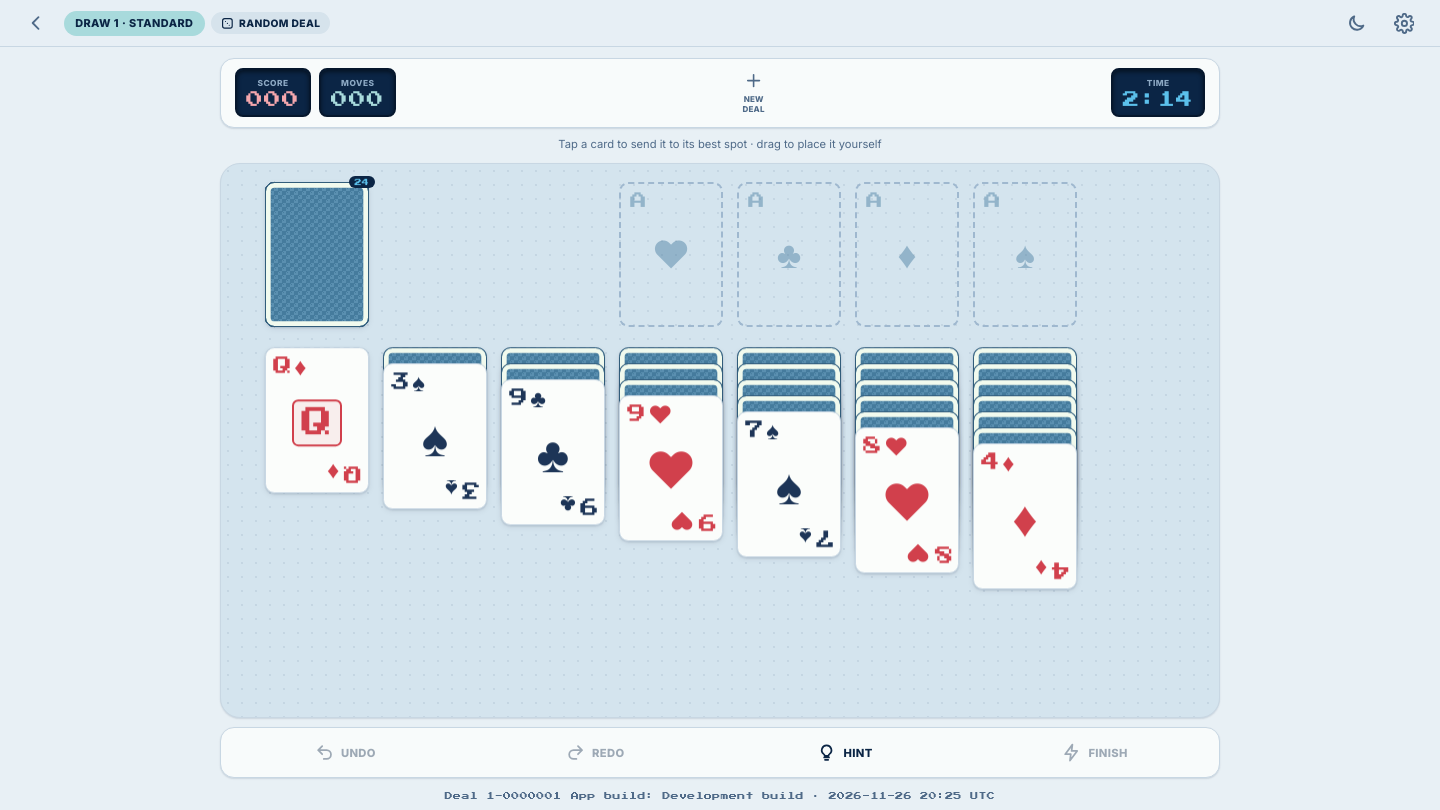
Test case: While the Paused sheet is open › Resume resumes and shows the board again
Press p
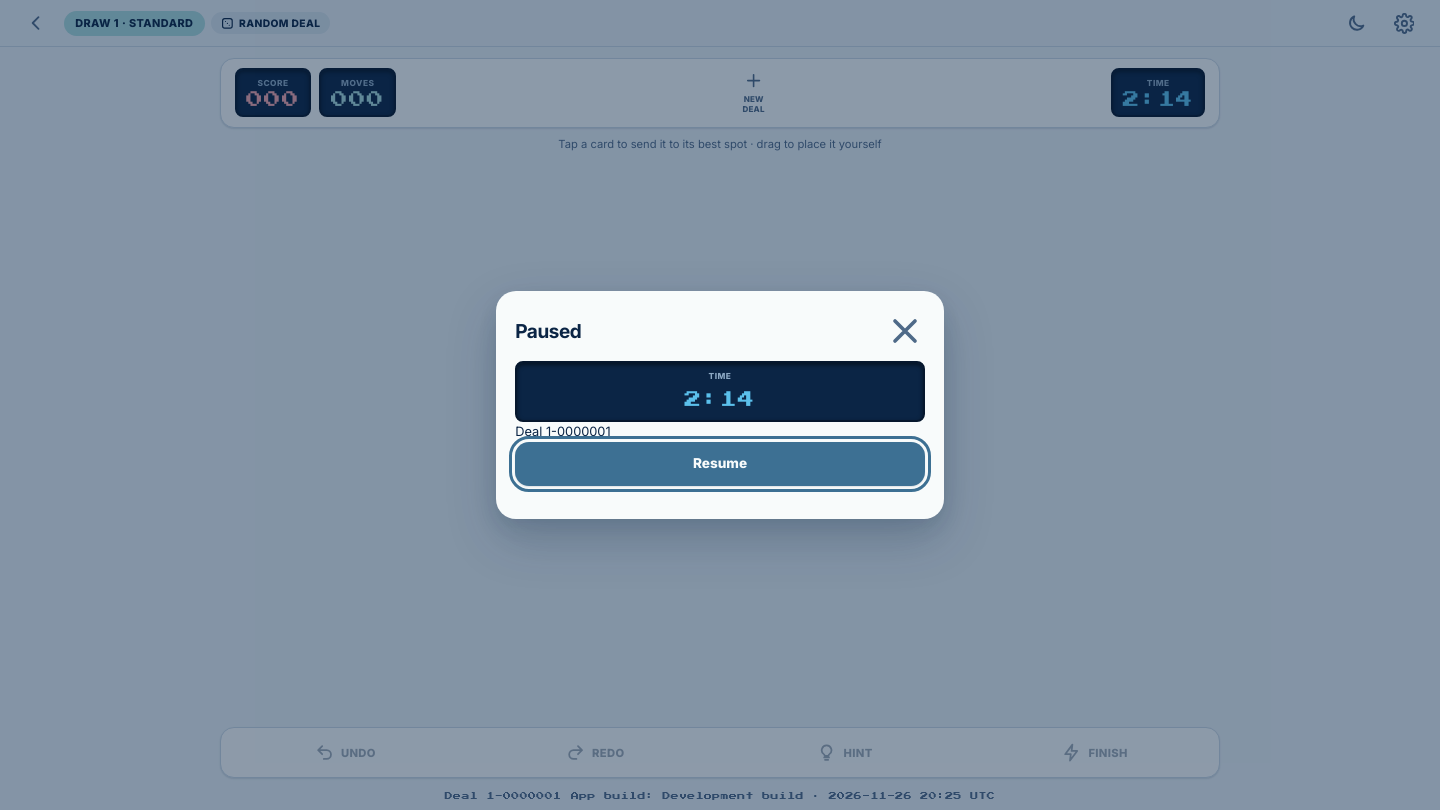
Click the button "Resume".
click(720, 464)  # box [515,442,925,486]
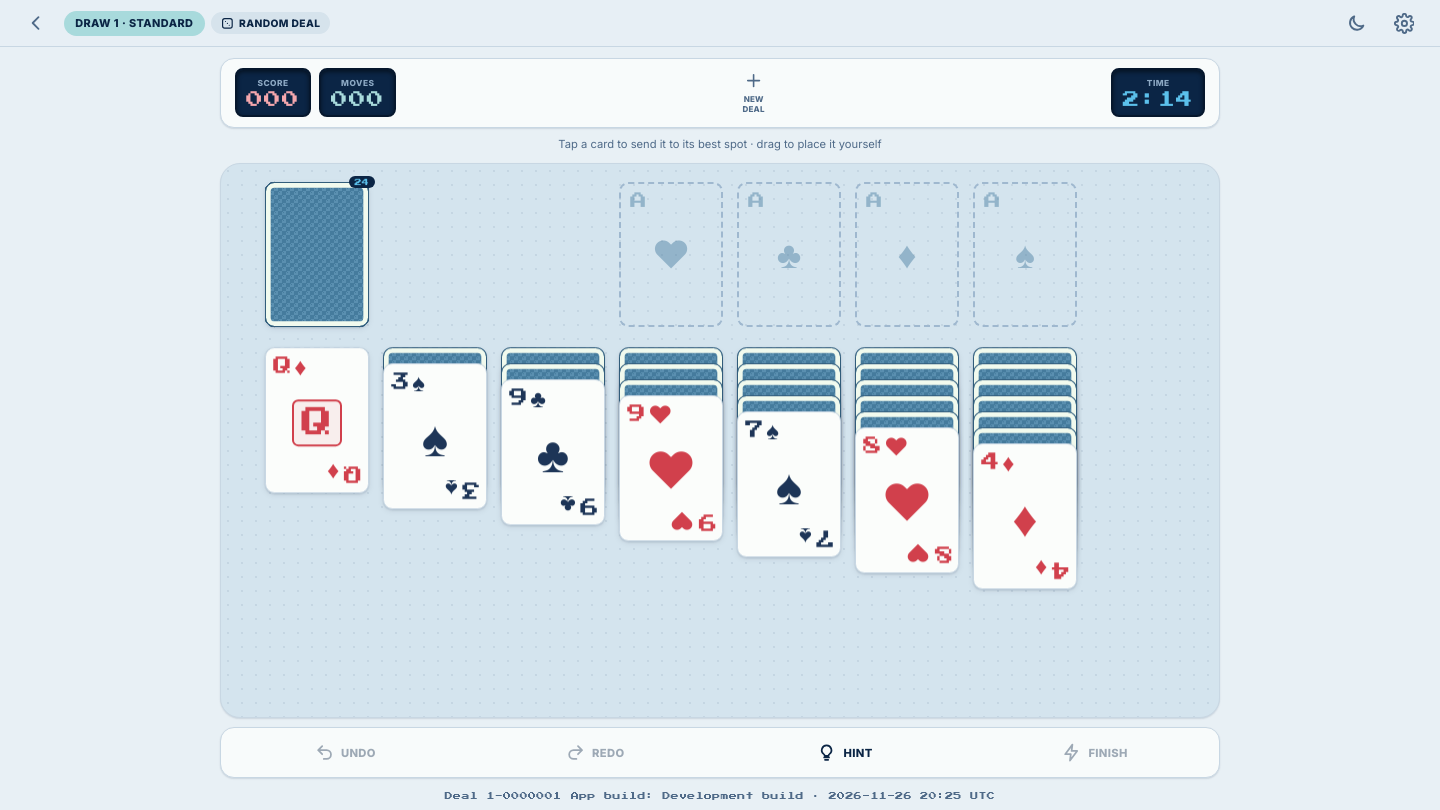
Expected: the element with class "board-panel" is shown, [220,163,1220,718]
